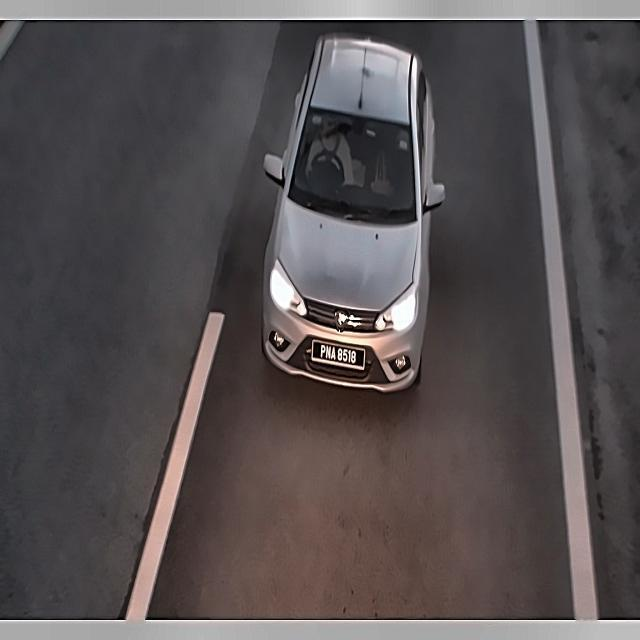car: (310, 331, 370, 369)
